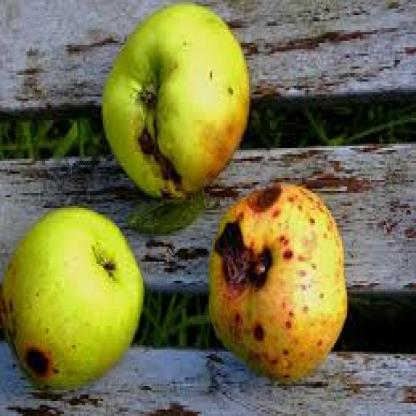damaged_apple: (206, 182, 350, 380), (96, 4, 249, 187), (2, 206, 143, 388)
